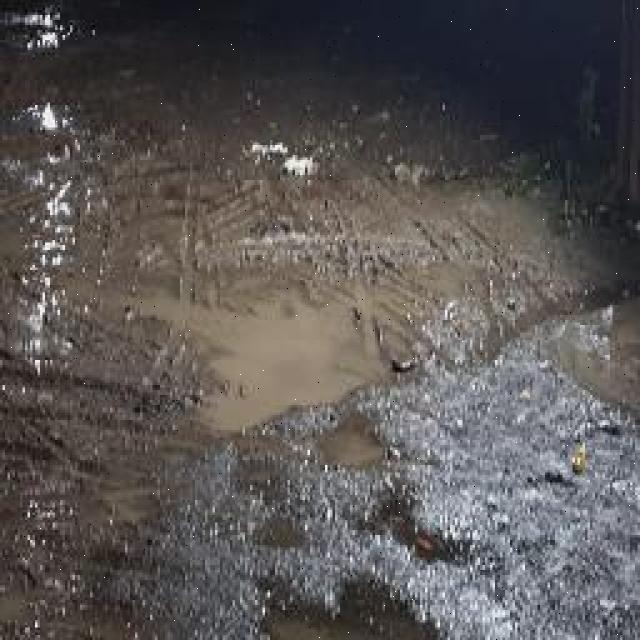stagnation: (62, 256, 428, 439)
